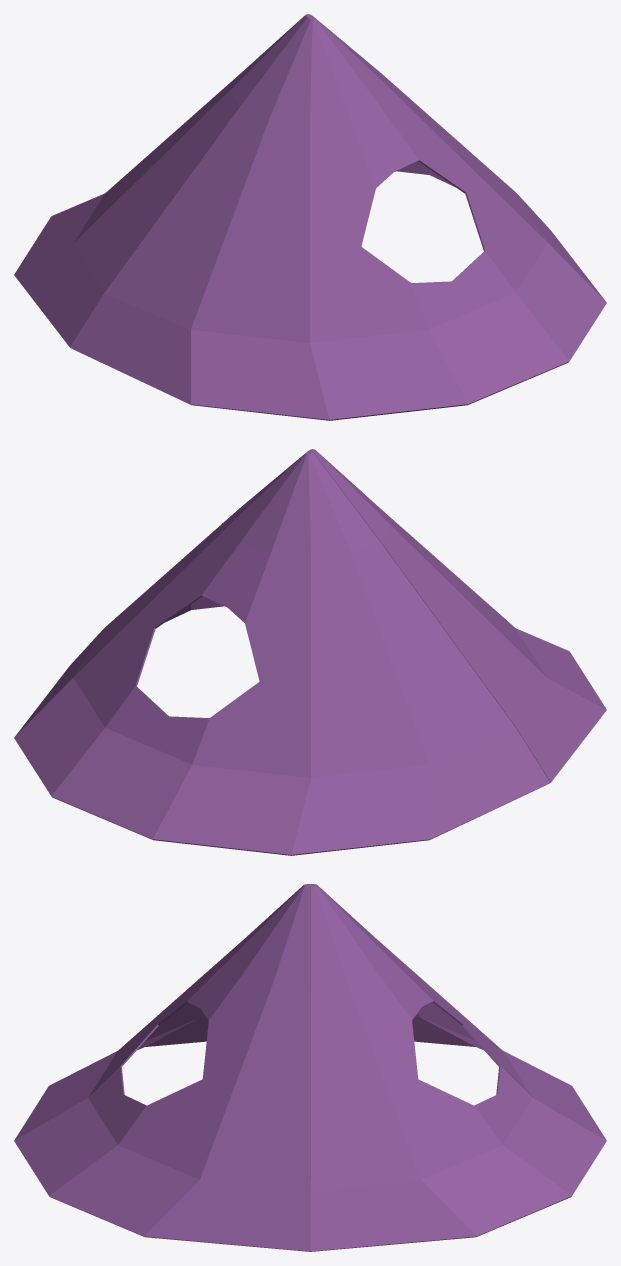
Rendered from Conical_Hat.fbx.
3 renders of one model, top to bottom at view 1: azimuth 30°, elevation 25°; view 2: azimuth 150°, elevation 25°; view 3: azimuth 270°, elevation 25°, orthographic. The views are drawn at different scales.
Visible parts, largest first — view 1: Conical Hat; view 2: Conical Hat; view 3: Conical Hat.
Boxes of the visible parts, x1,y1,x2,y2 form: Conical Hat: [14, 14, 606, 420]; Conical Hat: [14, 449, 606, 855]; Conical Hat: [14, 884, 606, 1251].
Bounding box in the file's own units: 307 × 167 × 349.
